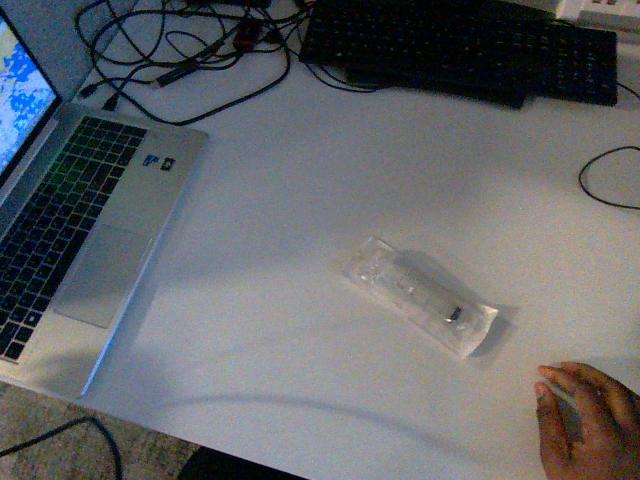syringe: (343, 237, 497, 357)
